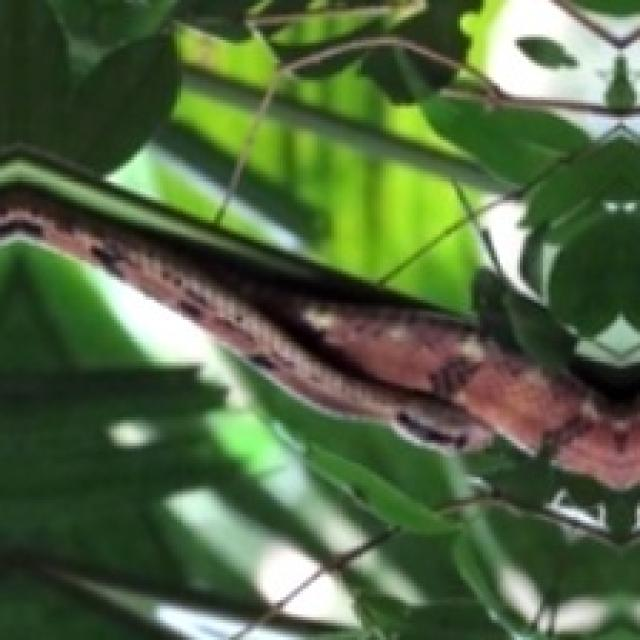dog-toothed cat snake: (0, 154, 637, 486)
